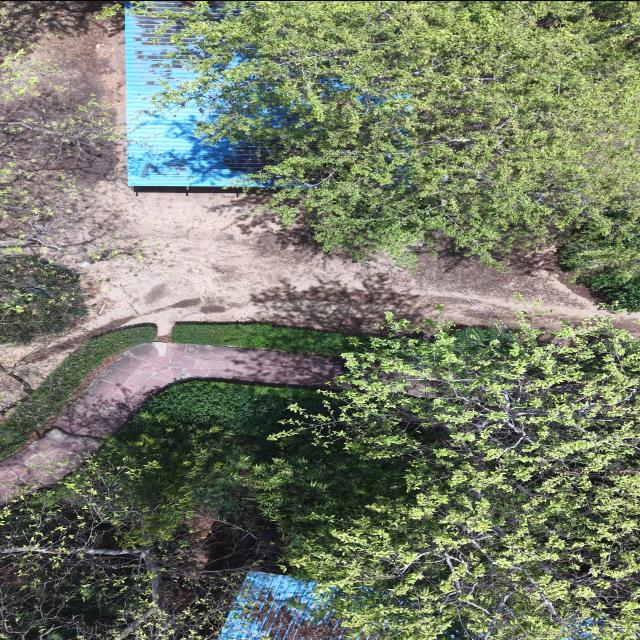DRY_AREA: (0, 143, 639, 386), (3, 182, 639, 380), (81, 144, 638, 334), (82, 180, 608, 333), (92, 186, 607, 332), (97, 186, 597, 331), (0, 342, 341, 500), (13, 351, 123, 454), (0, 331, 91, 420)
ROOFTOP_BUILDING: (126, 13, 267, 193), (126, 14, 267, 192), (219, 573, 346, 639)
VEGETATION_TREE: (0, 318, 639, 639), (0, 319, 639, 639), (129, 1, 639, 309), (221, 320, 638, 639), (257, 319, 638, 639), (0, 382, 311, 639), (0, 382, 306, 639), (0, 462, 252, 639), (0, 1, 120, 344), (99, 412, 404, 540), (96, 381, 322, 540), (0, 1, 119, 260), (0, 87, 115, 343), (0, 471, 165, 639), (0, 60, 119, 260), (0, 326, 156, 458), (144, 381, 321, 434), (558, 212, 639, 312), (0, 255, 87, 344), (171, 323, 369, 356), (0, 1, 113, 57), (172, 323, 361, 355), (0, 3, 43, 56), (456, 327, 509, 351)
